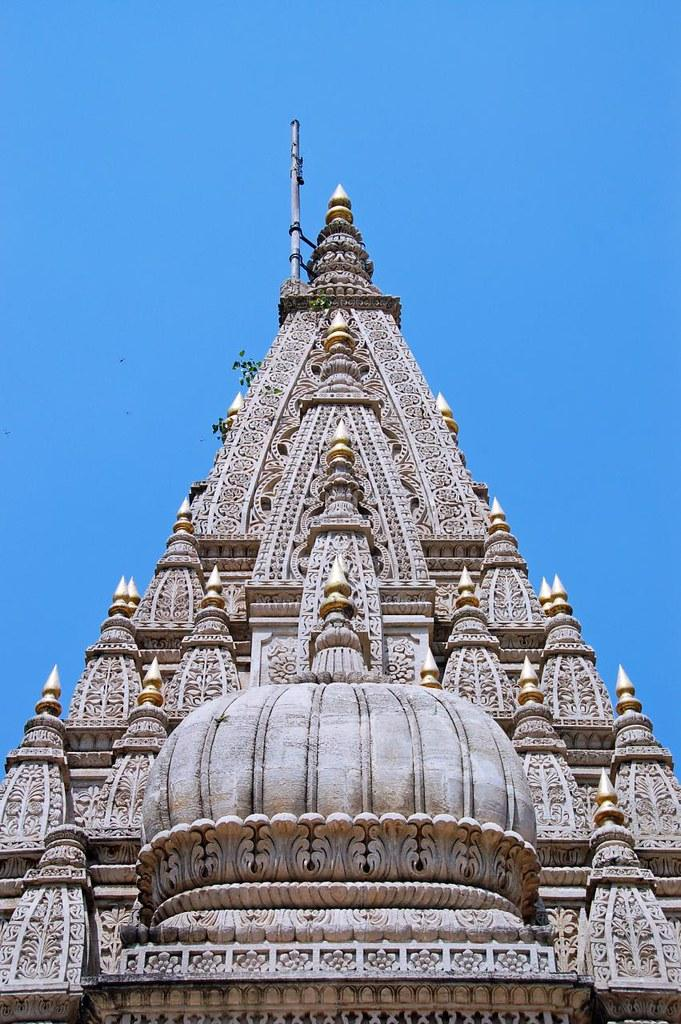temple: (2, 118, 680, 1023)
